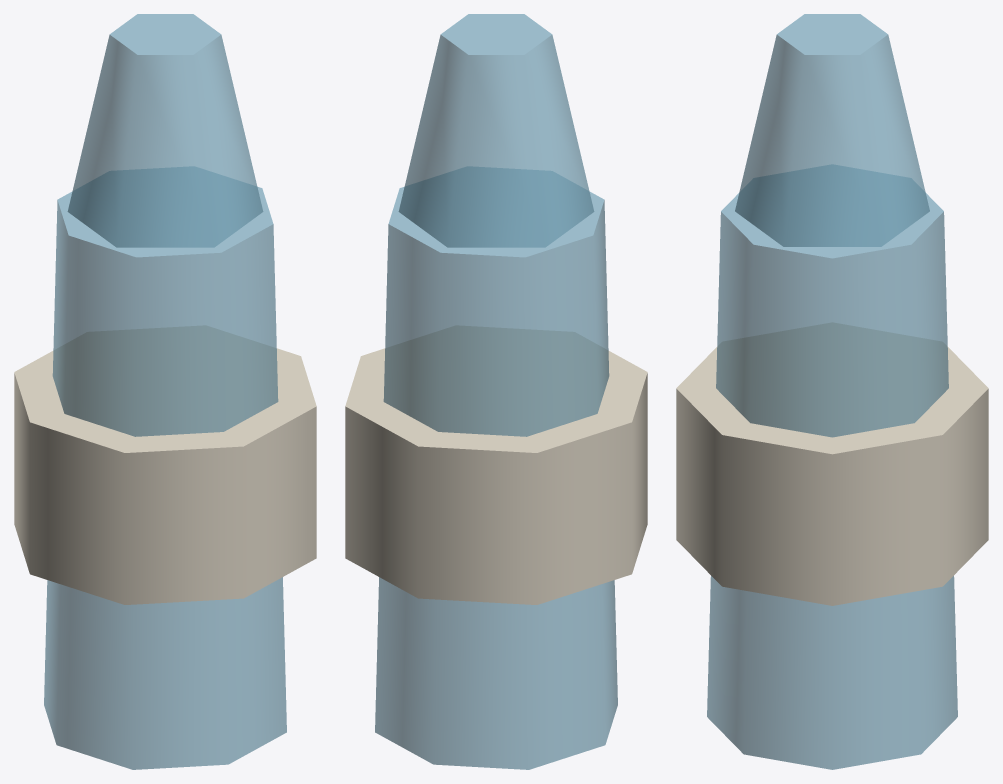
Rendered from good-water.glb.
3 views of the same model, side by side, from view 1: azimuth 30°, elevation 25°; view 2: azimuth 150°, elevation 25°; view 3: azimuth 270°, elevation 25° (orthographic).
Parts seen in each view (by area): view 1: #7ab0c8 rough 0.2 alpha 0.7, #e8e0d0_noshadow, #7ab0c8 alpha 0.7; view 2: #7ab0c8 rough 0.2 alpha 0.7, #e8e0d0_noshadow, #7ab0c8 alpha 0.7; view 3: #7ab0c8 rough 0.2 alpha 0.7, #e8e0d0_noshadow, #7ab0c8 alpha 0.7.
Boxes of the visible parts, bbox=[...] form: #7ab0c8 rough 0.2 alpha 0.7: bbox=[44, 167, 286, 769]; #e8e0d0_noshadow: bbox=[14, 325, 316, 604]; #7ab0c8 alpha 0.7: bbox=[67, 14, 263, 247]; #7ab0c8 rough 0.2 alpha 0.7: bbox=[375, 167, 617, 769]; #e8e0d0_noshadow: bbox=[345, 325, 647, 604]; #7ab0c8 alpha 0.7: bbox=[398, 14, 594, 247]; #7ab0c8 rough 0.2 alpha 0.7: bbox=[707, 165, 957, 769]; #e8e0d0_noshadow: bbox=[676, 322, 988, 605]; #7ab0c8 alpha 0.7: bbox=[735, 14, 929, 246].
Bounding box in the file's own units: 0.112 × 0.27 × 0.112.
